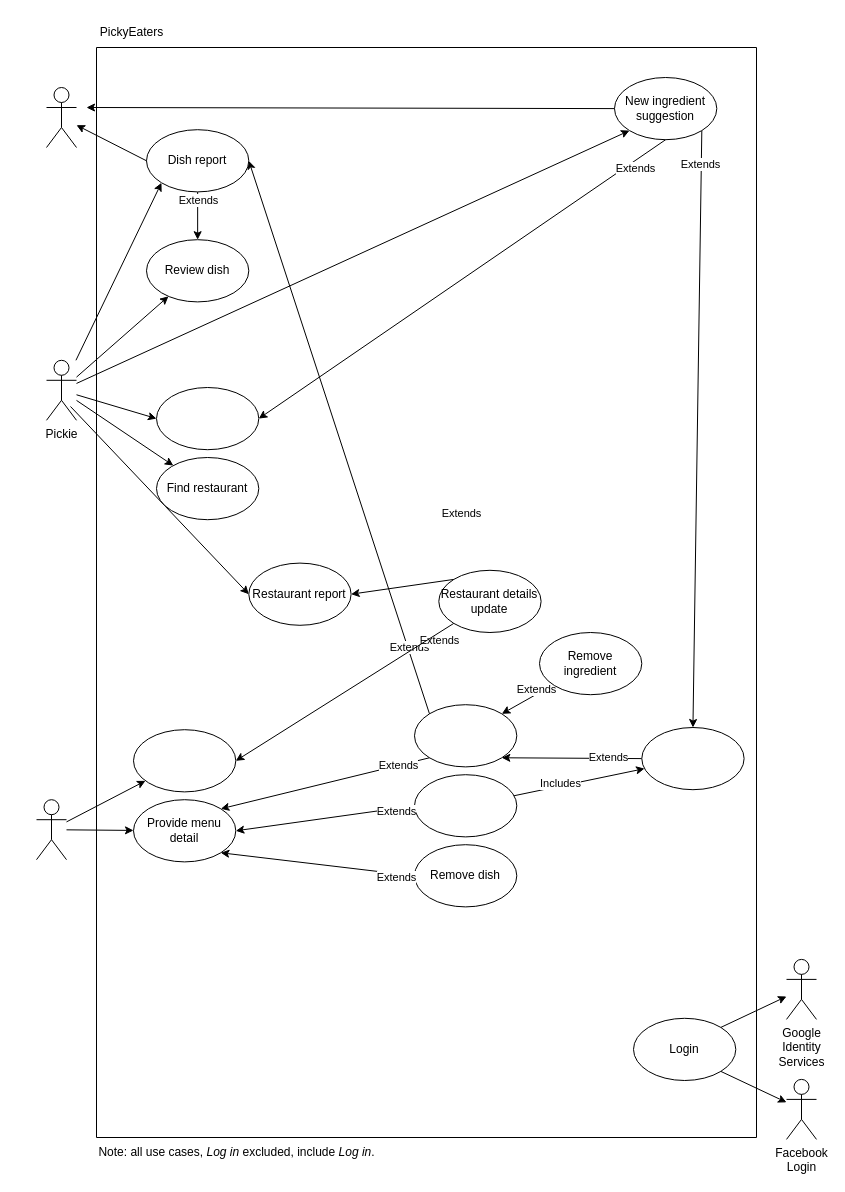
Image size: 845x1192. Some labels were removed from this diagram. The centre of each missing label's shape, as x and y in pixels:
"Add dish" goes at (465,805).
"Add ingredient" goes at (692,758).
"Administrator" goes at (61,117).
"Personalize eating preferences" goes at (207,418).
"Provide restaurant details" goes at (184,760).
"Restaurateur" goes at (51,829).
"Update dish" goes at (465,735).
